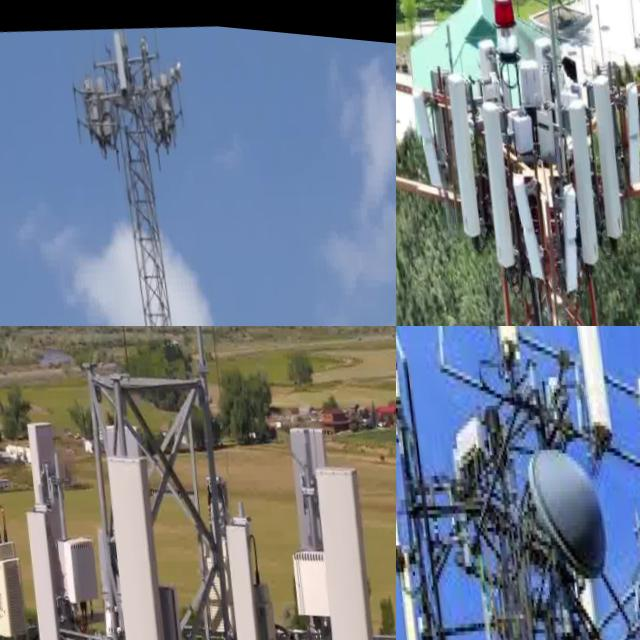GSM Antenna: (98, 439, 198, 640), (280, 399, 358, 640), (304, 439, 396, 640), (22, 409, 87, 624), (17, 495, 89, 640), (216, 507, 289, 640), (440, 57, 492, 242), (473, 80, 522, 271), (562, 82, 610, 265), (586, 57, 631, 236), (560, 326, 619, 437), (506, 160, 551, 285), (407, 74, 449, 194), (553, 169, 591, 293), (616, 62, 640, 183), (396, 414, 409, 572), (110, 23, 130, 90)
Microwave Antenna: (522, 436, 621, 585), (171, 50, 186, 79)
